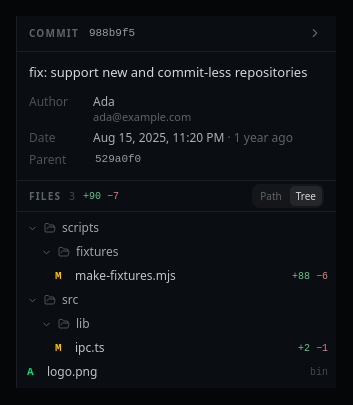
Test case: CommitDetail › groups files by folder in tree view
Click the button with aria-label "src folder": [32, 300] box x1=27 y1=288 x2=328 y2=312
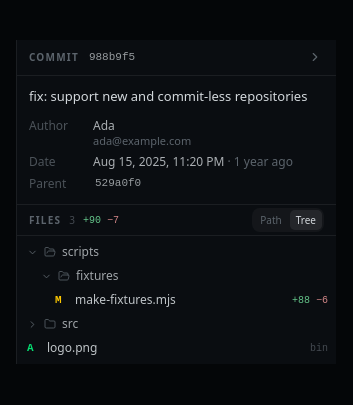
Expected: the button "ipc.ts" is gone
